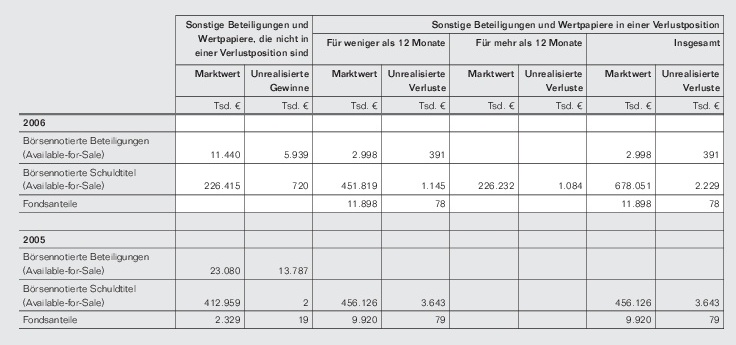table: (0, 0, 736, 345)
